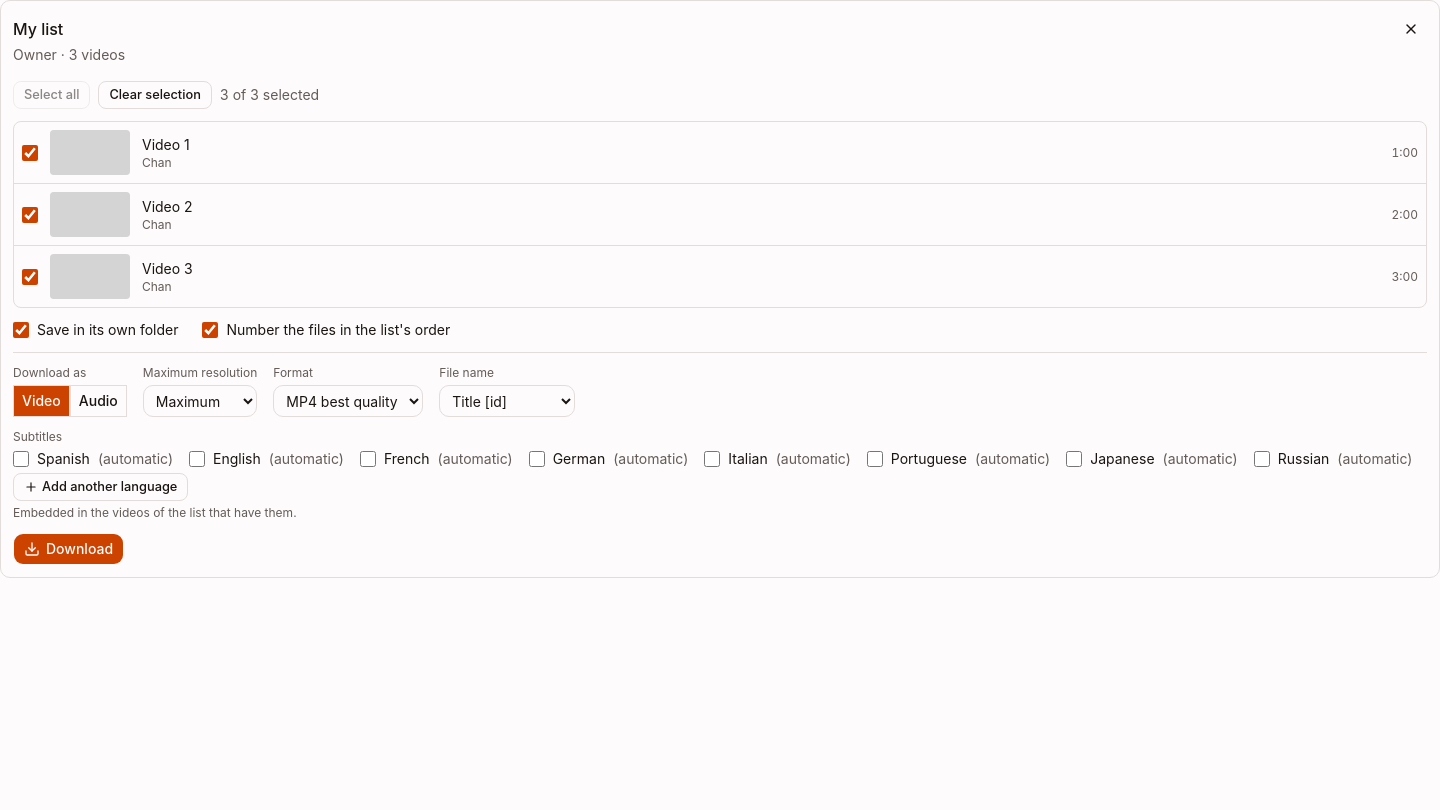
ticks and unticks one entry, and counts what is selected
This screenshot has width=1440, height=810.
Step 1. Click the checkbox labelled "Video 2 Chan 2:00" → {"x": 30, "y": 214}, box [22,206,38,222]
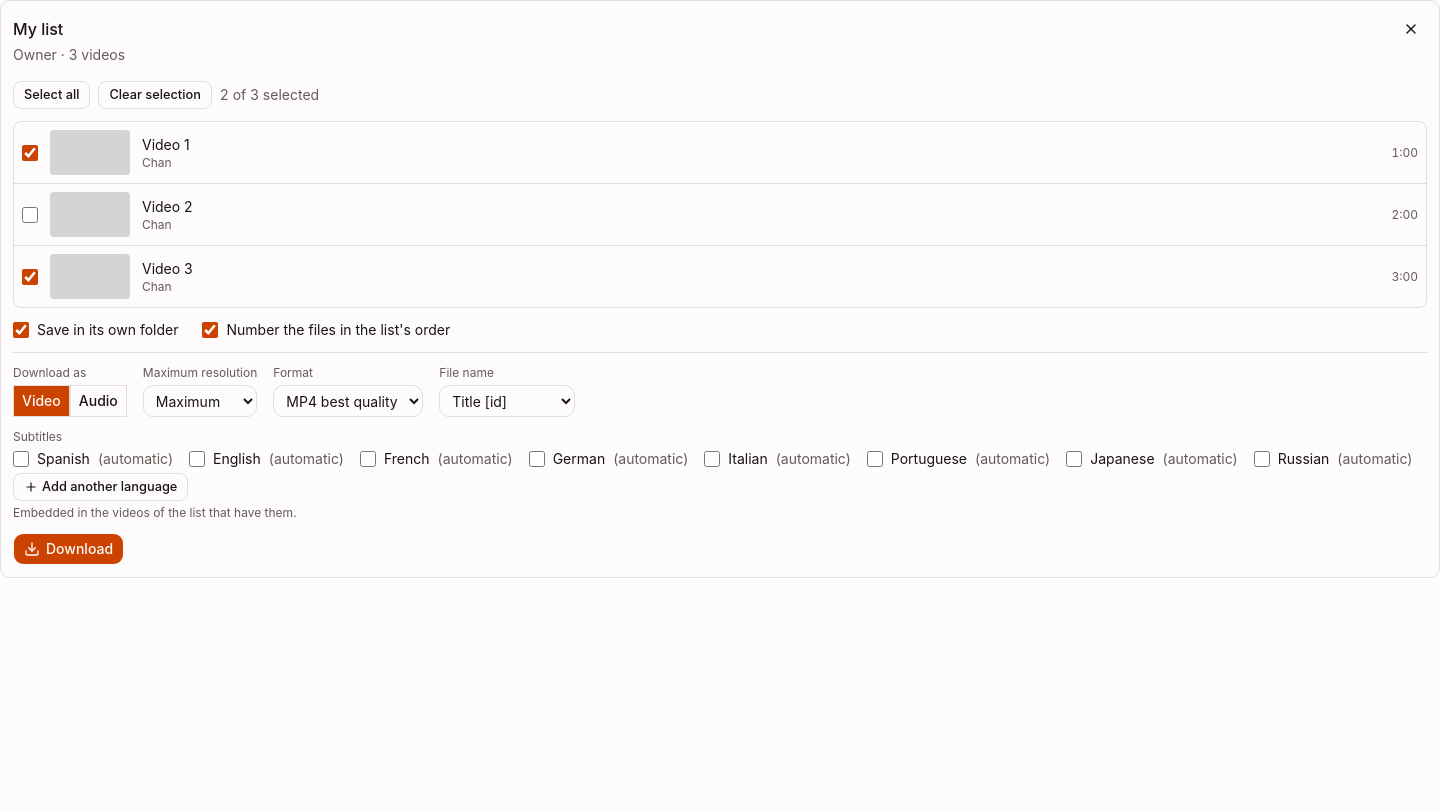
Expected: the text "2 of 3 selected" is shown, [220,85,319,105]
Step 2. Click the checkbox labelled "Video 2 Chan 2:00" → {"x": 30, "y": 214}, box [22,206,38,222]
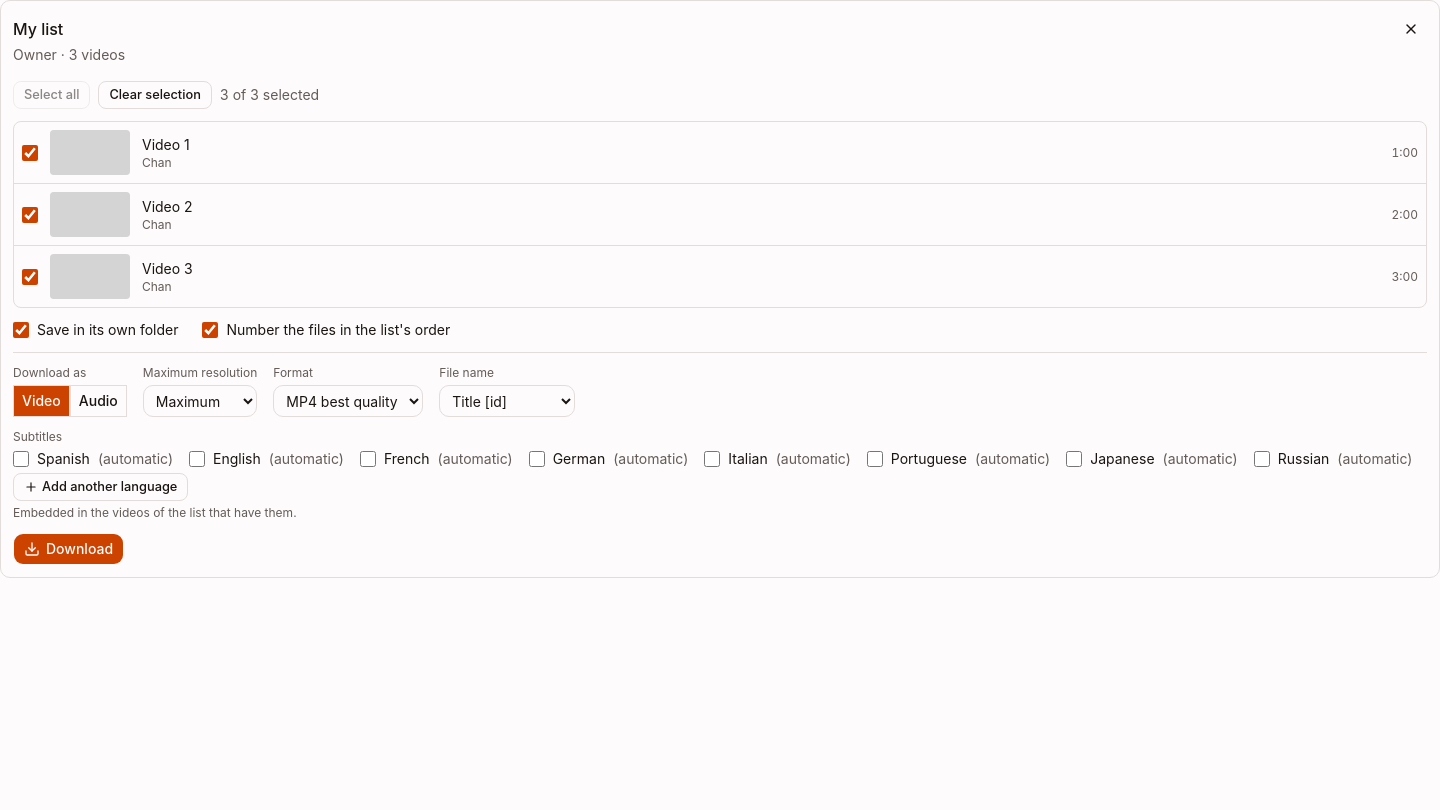
Expected: the text "3 of 3 selected" is shown, [220,85,319,105]
